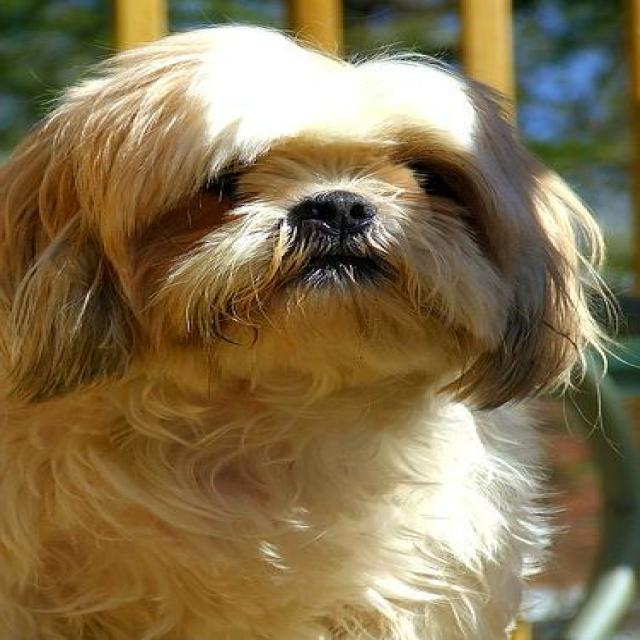shih_tzu: (4, 25, 638, 638)
